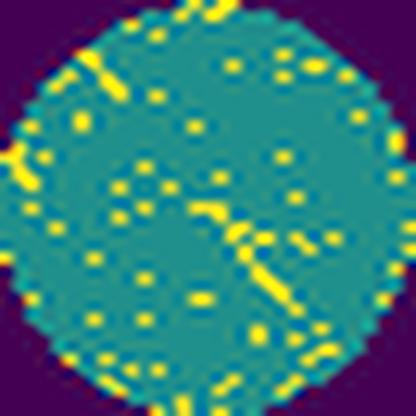Scratch: (183, 195, 309, 320), (75, 47, 134, 108)
